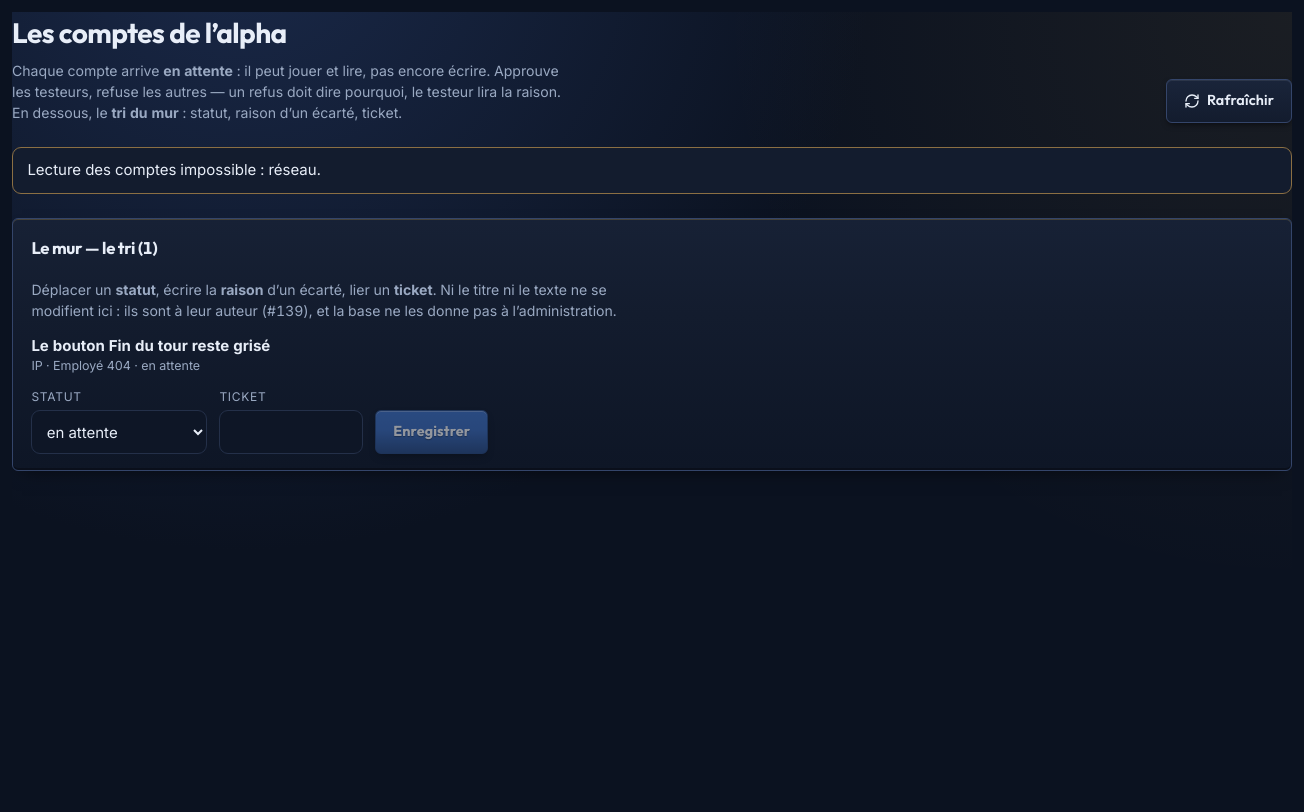
Test case: les états de D-060 › une erreur de lecture s’affiche, et « Rafraîchir » réessaie
Expected: the message shows "réseau", [27,160,321,179]
Click the button "Rafraîchir": (1229, 101) [1166,79,1292,123]
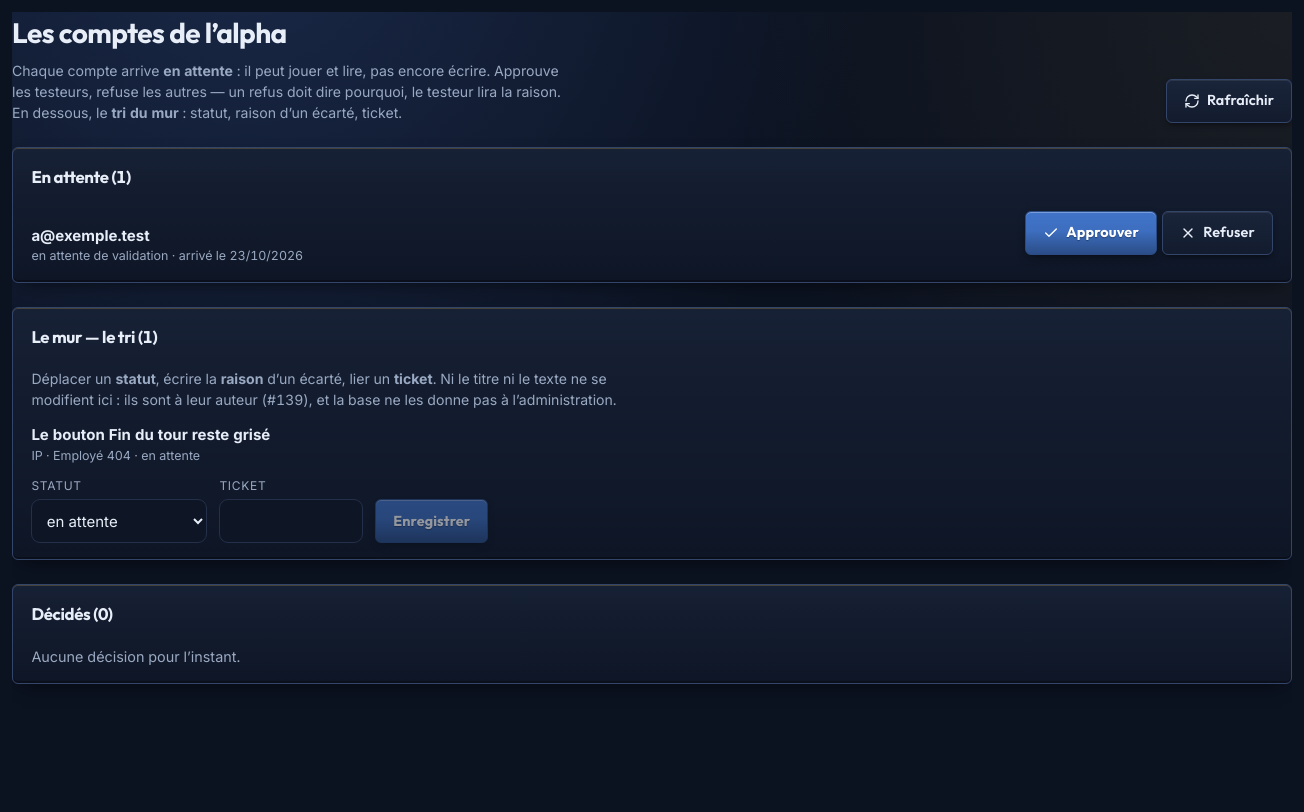
Result: the text "a@exemple.test" is shown at [31,226,150,245]
